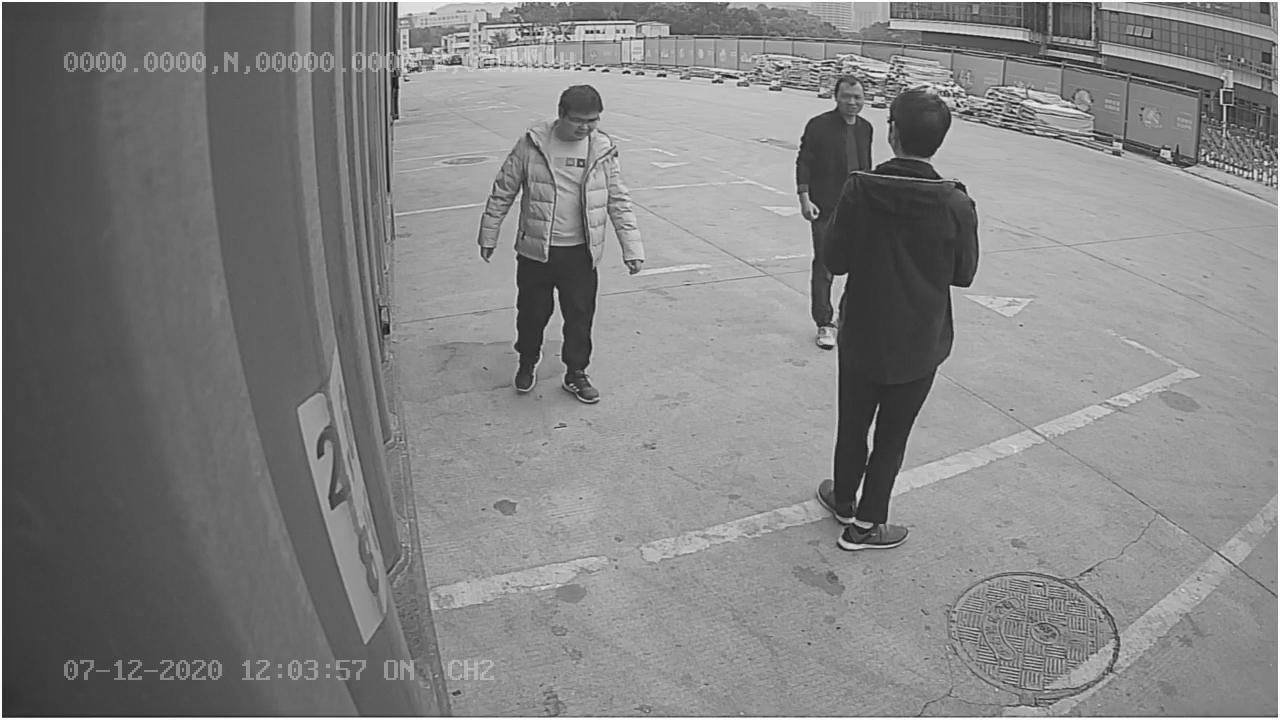person: (480, 74, 645, 406)
